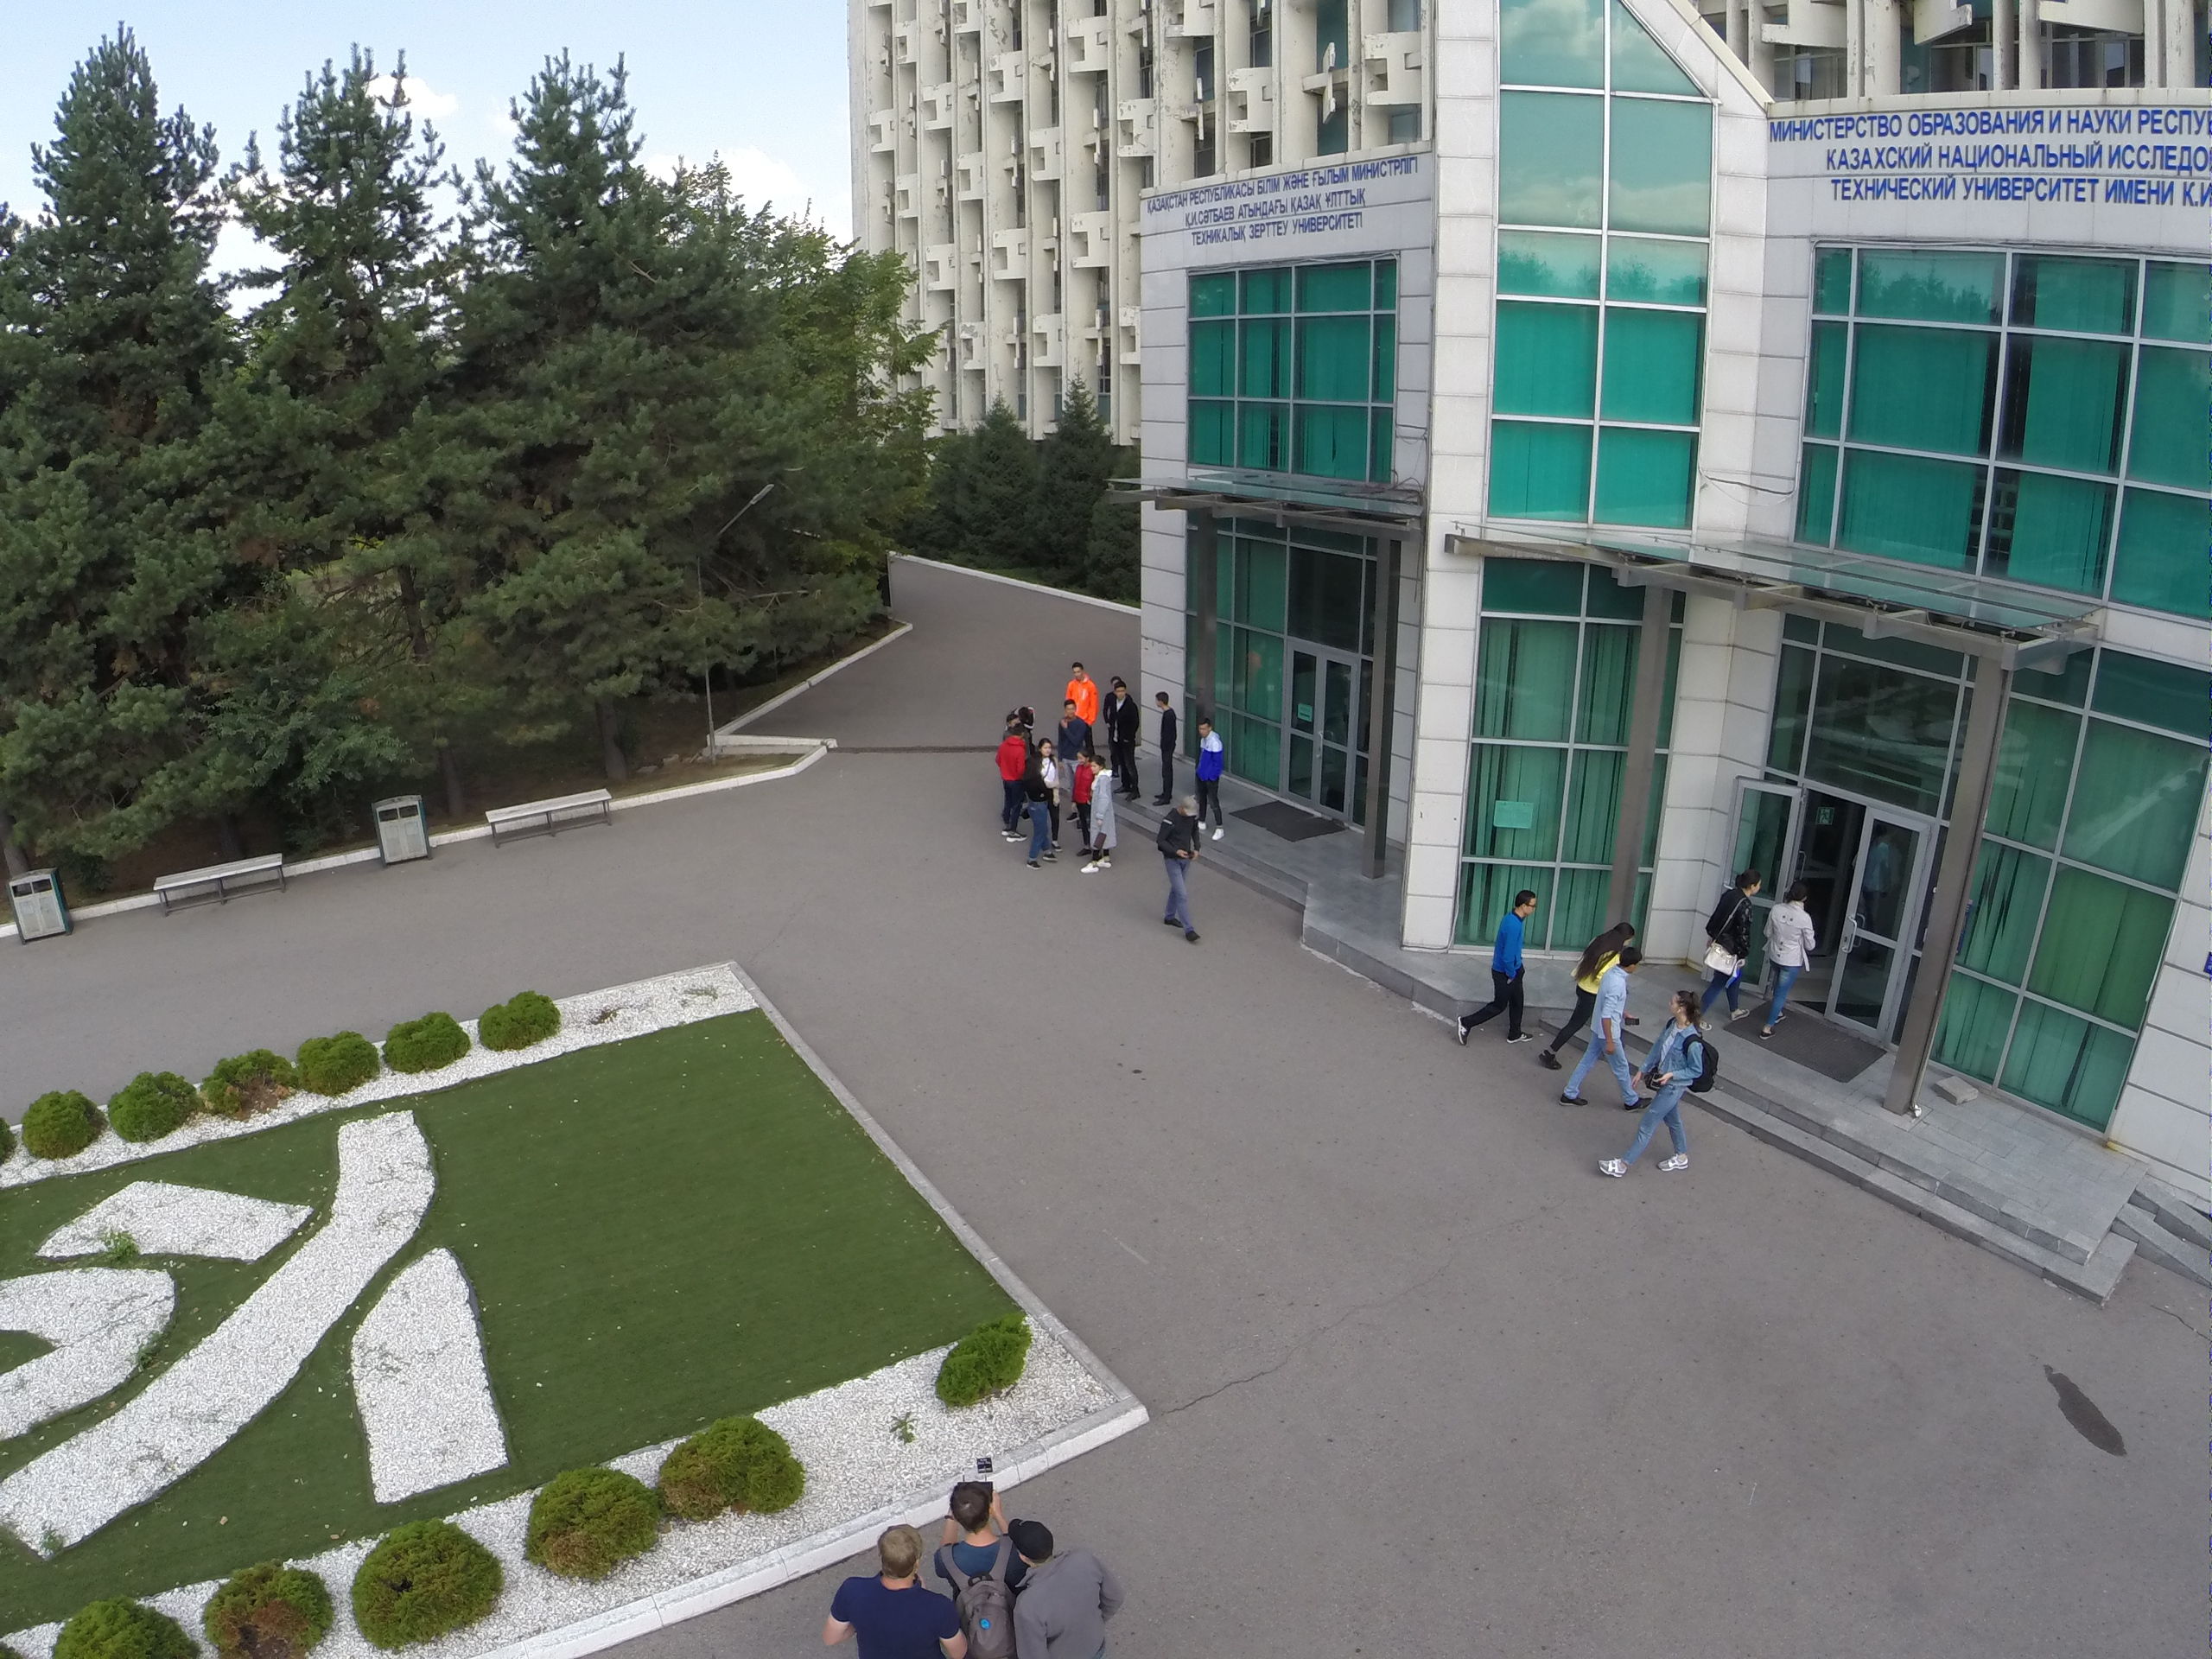person: (1631, 981, 1701, 1185), (1459, 883, 1541, 1046), (1584, 952, 1647, 1109), (1704, 875, 1757, 1032), (1150, 800, 1205, 948), (1767, 883, 1817, 1051), (1107, 683, 1140, 804), (1018, 760, 1054, 868), (999, 722, 1029, 845), (1198, 717, 1227, 839), (1088, 756, 1117, 874), (1149, 691, 1176, 806), (1071, 751, 1094, 854), (1063, 662, 1097, 712), (1034, 739, 1061, 797)
